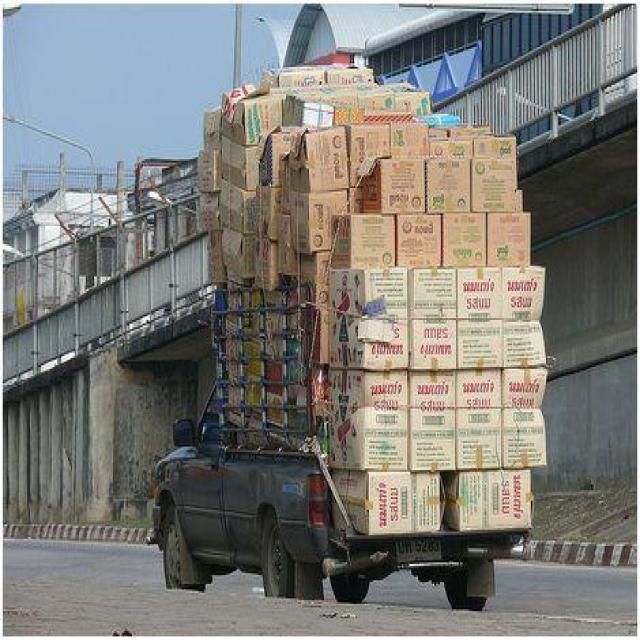uncovered: (202, 71, 537, 573)
